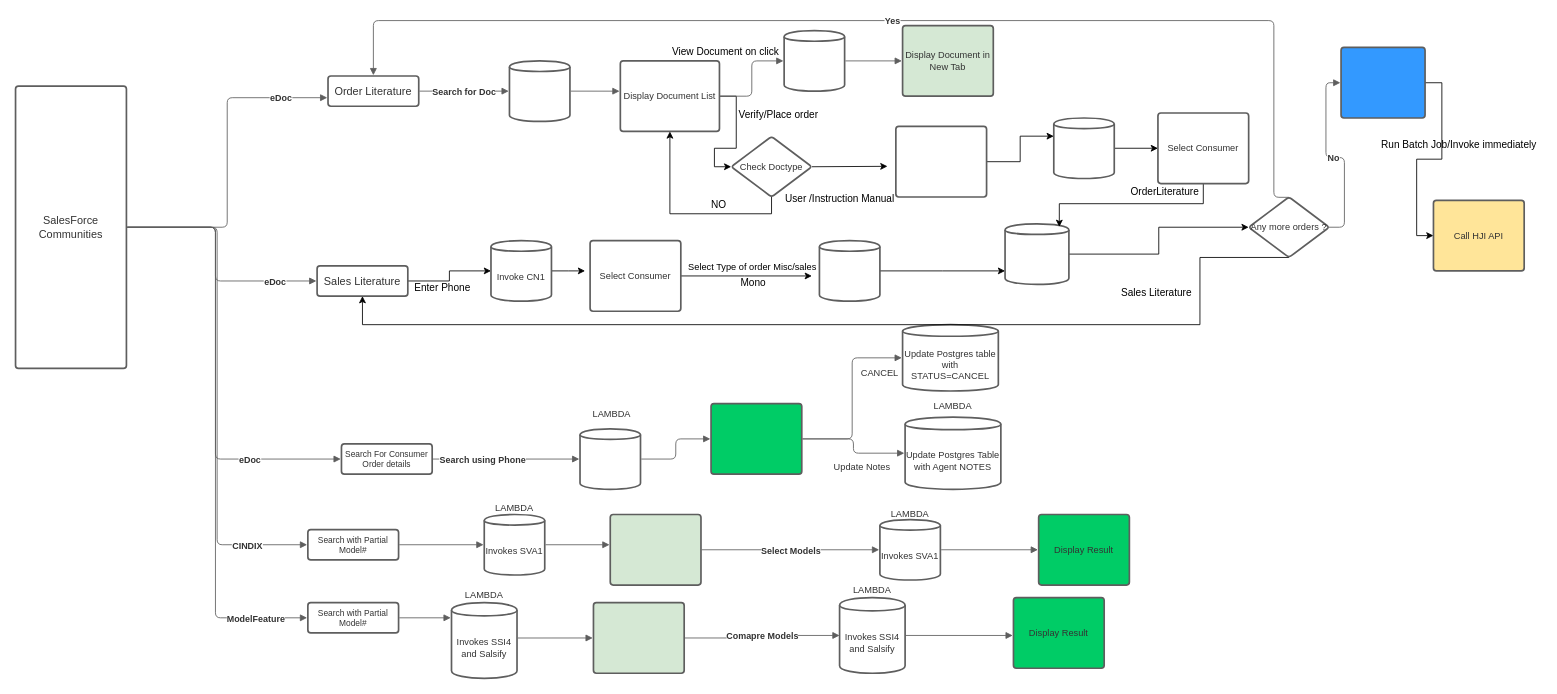
Some shapes in this 1557 by 694 pixel diagram are drawn without their labels. Here are the shapes that lost their labels. From the top down, the centre of each, then its label:
At point (814, 60): "Invoke Salsify".
At point (539, 91): "Invoke SVA1 and Salsify".
At point (1382, 82): "Order Placed".
At point (941, 161): "Search consumer by phone".
At point (1084, 148): "Call c360".
At point (849, 270): "Invoke SVA1".
At point (1036, 254): "Insert into Postgres Table".
At point (756, 438): "Display Result of order FOR CONSUMER".
At point (610, 459): "Invoke Postgres Table".
At point (655, 549): "Display Model List on Left of Main Page".
At point (638, 637): "Display Model List on Left of MainPage".
